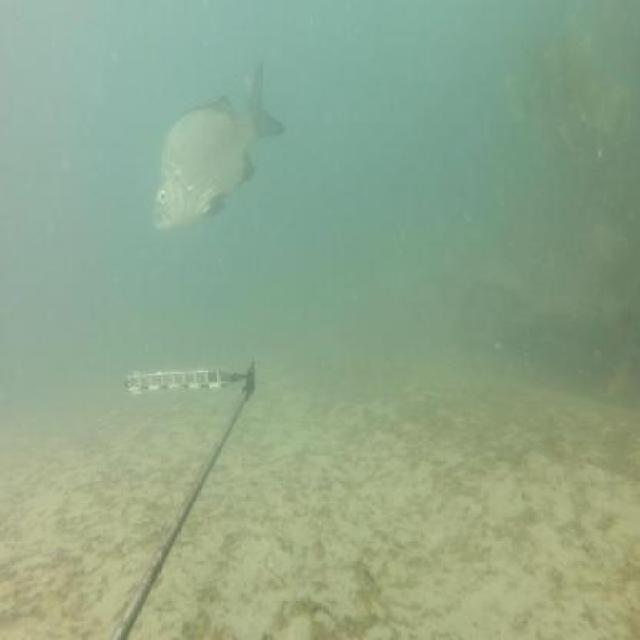acanthopagrus_palmaris: (151, 54, 286, 234)
